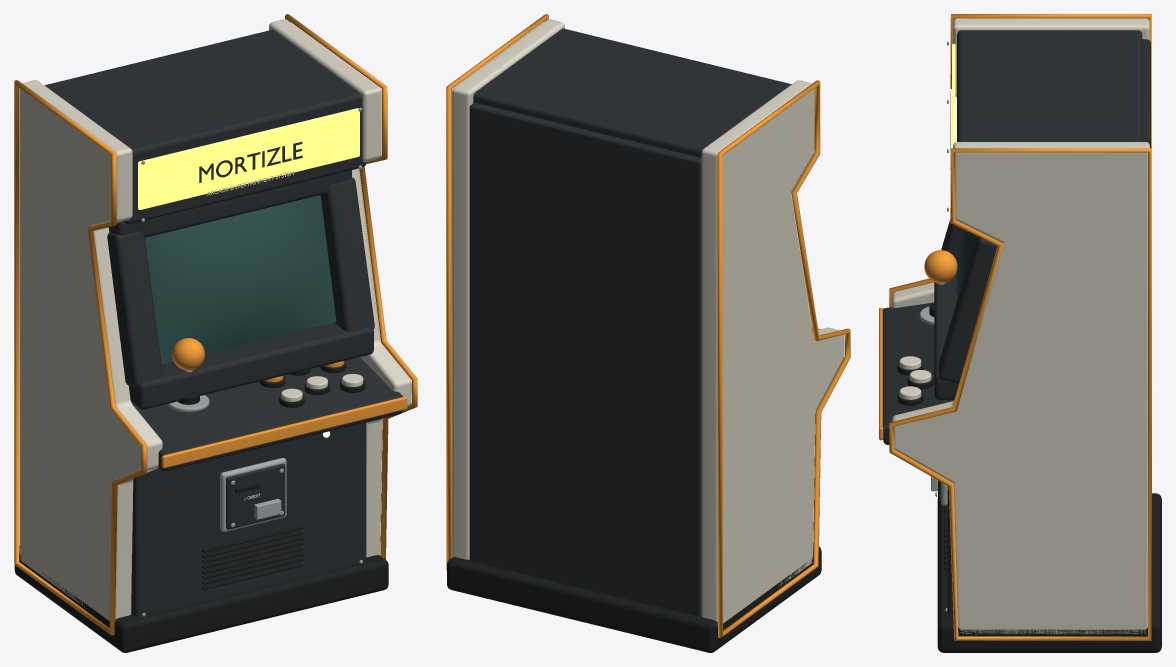
Rendered from mortizle-cabinet.glb.
The picture shows the model from 3 angles, left to right: view 1: azimuth 30°, elevation 25°; view 2: azimuth 150°, elevation 25°; view 3: azimuth 270°, elevation 25°; orthographic projection.
Parts seen in each view (by area): view 1: mortizle-cabinet_Body, CRT_Surface; view 2: mortizle-cabinet_Body; view 3: mortizle-cabinet_Body, CRT_Surface.
Boxes of the visible parts, x1,y1,x2,y2 form: mortizle-cabinet_Body: (14, 14, 417, 652); CRT_Surface: (145, 195, 336, 364); mortizle-cabinet_Body: (446, 14, 850, 652); mortizle-cabinet_Body: (879, 14, 1161, 652); CRT_Surface: (956, 230, 975, 300).
Size of the model in its own units: 1.91 by 3.3 by 1.66.
